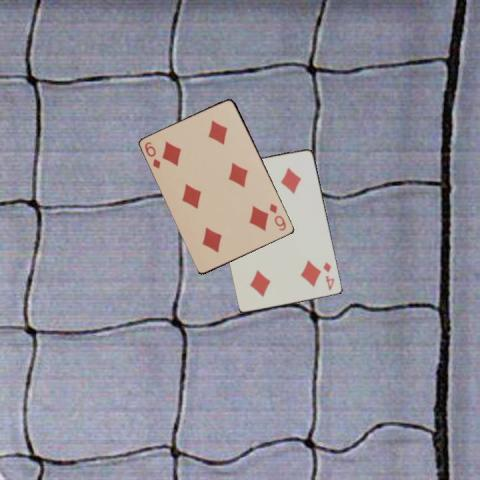4d: (321, 259, 336, 292)
6d: (267, 200, 287, 232), (142, 139, 162, 170)
